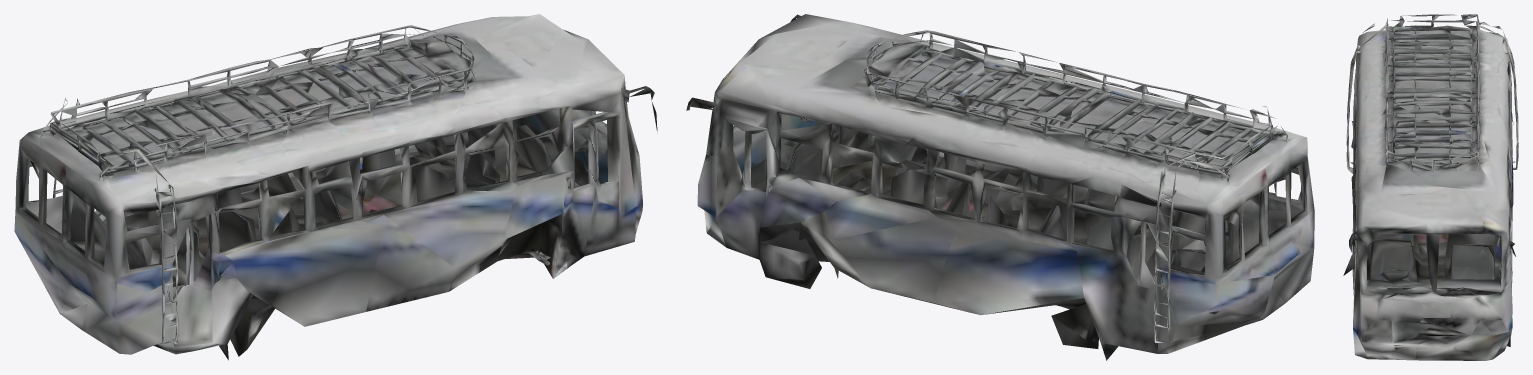
File: pbus_2.glb
3 views of the same model, side by side, from view 1: azimuth 30°, elevation 25°; view 2: azimuth 150°, elevation 25°; view 3: azimuth 270°, elevation 25° (orthographic). The views are drawn at different scales.
Parts seen in each view (by area): view 1: tripo_node_4e77e796-a625-444f-8c66-4c2ce7cc06a3; view 2: tripo_node_4e77e796-a625-444f-8c66-4c2ce7cc06a3; view 3: tripo_node_4e77e796-a625-444f-8c66-4c2ce7cc06a3.
Part boxes in pixels (x1,y1,x2,y2): tripo_node_4e77e796-a625-444f-8c66-4c2ce7cc06a3: (14, 14, 657, 360); tripo_node_4e77e796-a625-444f-8c66-4c2ce7cc06a3: (686, 14, 1314, 360); tripo_node_4e77e796-a625-444f-8c66-4c2ce7cc06a3: (1343, 14, 1518, 360).
Size of the model in its own units: 0.9972 by 0.394 by 0.3601.
Materials: 1 (1 with a texture image).
